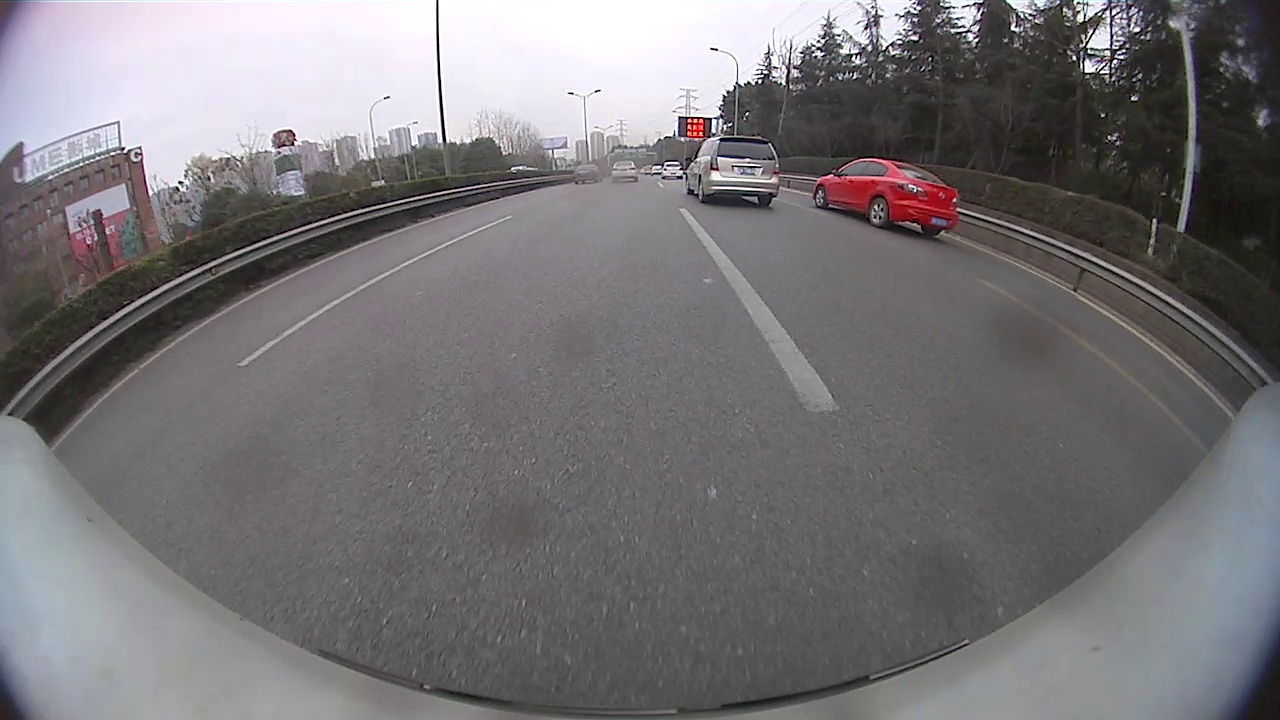car: (813, 157, 962, 239), (684, 135, 782, 207), (572, 163, 604, 183), (610, 160, 639, 182)
front: (815, 187, 829, 209)
rear: (867, 198, 890, 230)
